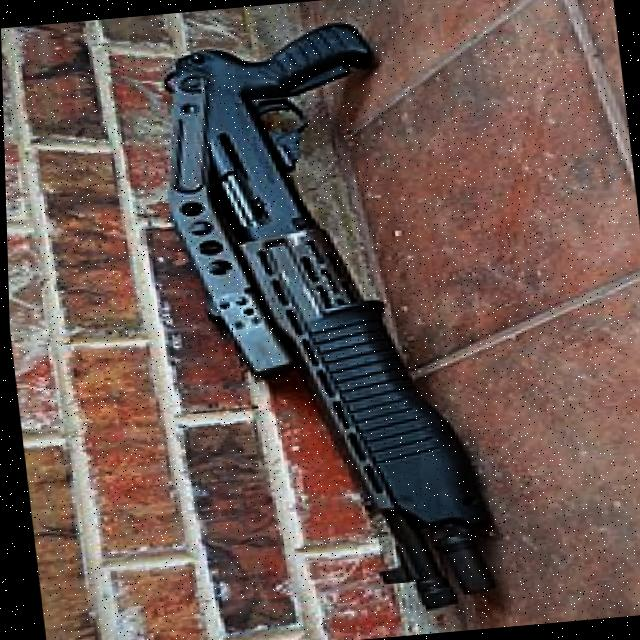firearm: (146, 11, 499, 628)
